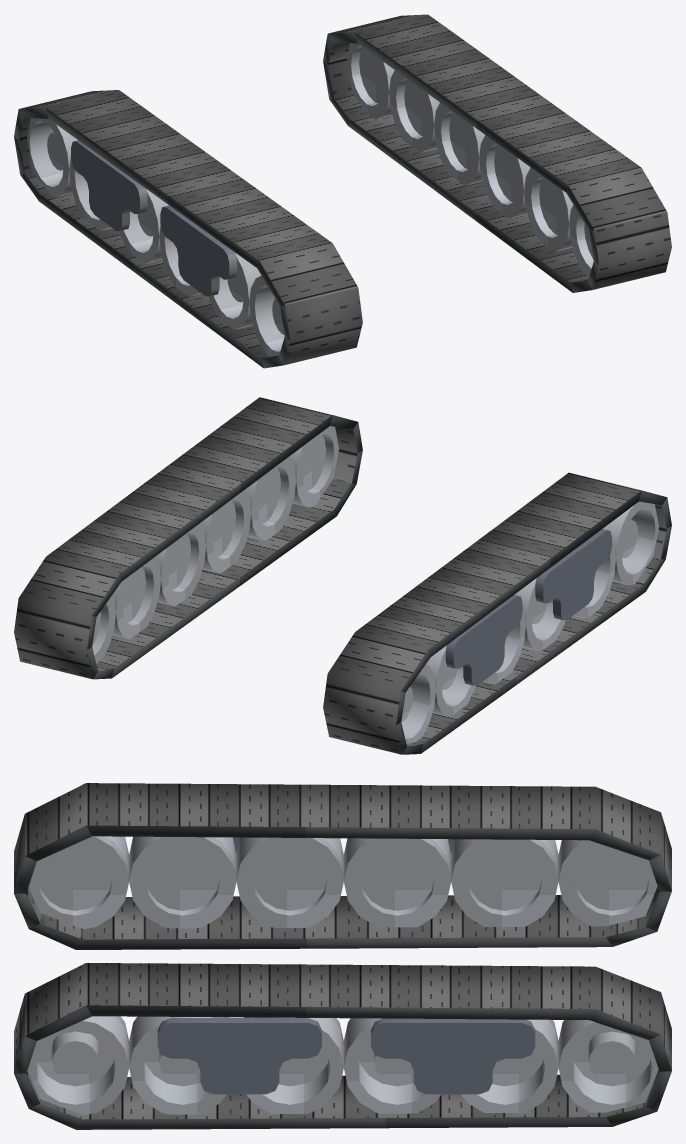
Rendered from ZUBR_BASE.fbx.
3 renders of one model, top to bottom at view 1: azimuth 30°, elevation 25°; view 2: azimuth 150°, elevation 25°; view 3: azimuth 270°, elevation 25°, orthographic. The views are drawn at different scales.
Parts seen in each view (by area): view 1: Desert_tank_zubr.004, Desert_tank_zubr.005, Desert_tank_zubr.022, Desert_tank_zubr.021, Desert_tank_zubr.024, Desert_tank_zubr.020, Desert_tank_zubr.019, Desert_tank_zubr.018, Desert_tank_zubr.028, Desert_tank_zubr.029, Desert_tank_zubr.026, Desert_tank_zubr.023 (+2 smaller); view 2: Desert_tank_zubr.004, Desert_tank_zubr.005, Desert_tank_zubr.029, Desert_tank_zubr.022, Desert_tank_zubr.021, Desert_tank_zubr.020, Desert_tank_zubr.019, Desert_tank_zubr.023, Desert_tank_zubr.024, Desert_tank_zubr.025, Desert_tank_zubr.027, Desert_tank_zubr.028 (+2 smaller); view 3: Desert_tank_zubr.004, Desert_tank_zubr.005, Desert_tank_zubr.028, Desert_tank_zubr.027, Desert_tank_zubr.026, Desert_tank_zubr.025, Desert_tank_zubr.023, Desert_tank_zubr.018, Desert_tank_zubr.029, Desert_tank_zubr.024, Desert_tank_zubr.022, Desert_tank_zubr.020 (+2 smaller).
Part boxes in pixels (<box>): Desert_tank_zubr.004: <box>14,14,671,368</box>; Desert_tank_zubr.005: <box>71,140,237,296</box>; Desert_tank_zubr.022: <box>524,167,573,251</box>; Desert_tank_zubr.021: <box>479,135,530,218</box>; Desert_tank_zubr.024: <box>27,118,77,197</box>; Desert_tank_zubr.020: <box>434,102,484,185</box>; Desert_tank_zubr.019: <box>389,70,439,152</box>; Desert_tank_zubr.018: <box>346,43,394,119</box>; Desert_tank_zubr.028: <box>209,253,261,329</box>; Desert_tank_zubr.029: <box>249,275,284,355</box>; Desert_tank_zubr.026: <box>119,189,169,263</box>; Desert_tank_zubr.023: <box>569,205,593,277</box>; Desert_tank_zubr.004: <box>14,397,671,754</box>; Desert_tank_zubr.005: <box>445,529,611,685</box>; Desert_tank_zubr.029: <box>602,501,658,585</box>; Desert_tank_zubr.022: <box>245,456,295,540</box>; Desert_tank_zubr.021: <box>200,490,250,573</box>; Desert_tank_zubr.020: <box>155,523,205,606</box>; Desert_tank_zubr.019: <box>112,556,160,639</box>; Desert_tank_zubr.023: <box>289,426,339,507</box>; Desert_tank_zubr.024: <box>401,664,435,743</box>; Desert_tank_zubr.025: <box>426,645,475,717</box>; Desert_tank_zubr.027: <box>514,578,565,651</box>; Desert_tank_zubr.028: <box>573,539,615,618</box>; Desert_tank_zubr.004: <box>14,783,671,1129</box>; Desert_tank_zubr.005: <box>157,837,535,1094</box>; Desert_tank_zubr.028: <box>129,836,236,928</box>; Desert_tank_zubr.027: <box>236,837,343,927</box>; Desert_tank_zubr.026: <box>344,838,451,927</box>; Desert_tank_zubr.025: <box>451,839,558,926</box>; Desert_tank_zubr.023: <box>27,1016,129,1114</box>; Desert_tank_zubr.018: <box>558,1020,658,1112</box>; Desert_tank_zubr.029: <box>28,836,129,928</box>; Desert_tank_zubr.024: <box>558,840,657,926</box>; Desert_tank_zubr.022: <box>129,1016,228,1114</box>; Desert_tank_zubr.020: <box>344,1018,441,1113</box>.
Bounding box in the file's own units: 241 × 62.78 × 301.
